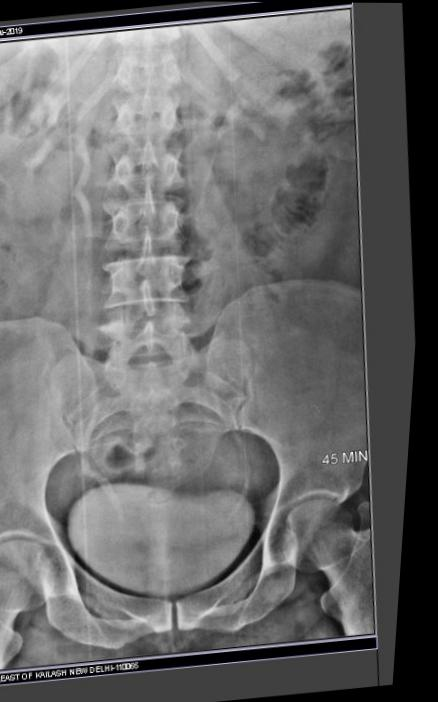bladder: (65, 471, 332, 655)
right kidney: (0, 47, 125, 225)
vertebrae: (132, 60, 223, 127)
